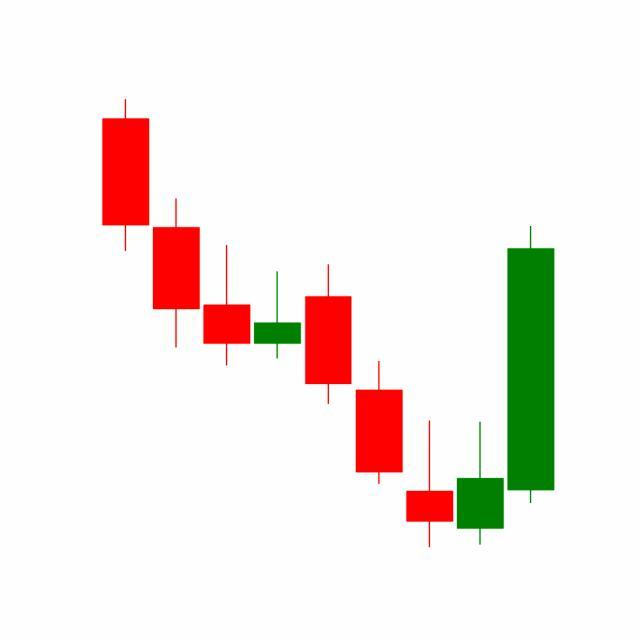Hikkake Pattern: (302, 222, 555, 549)
